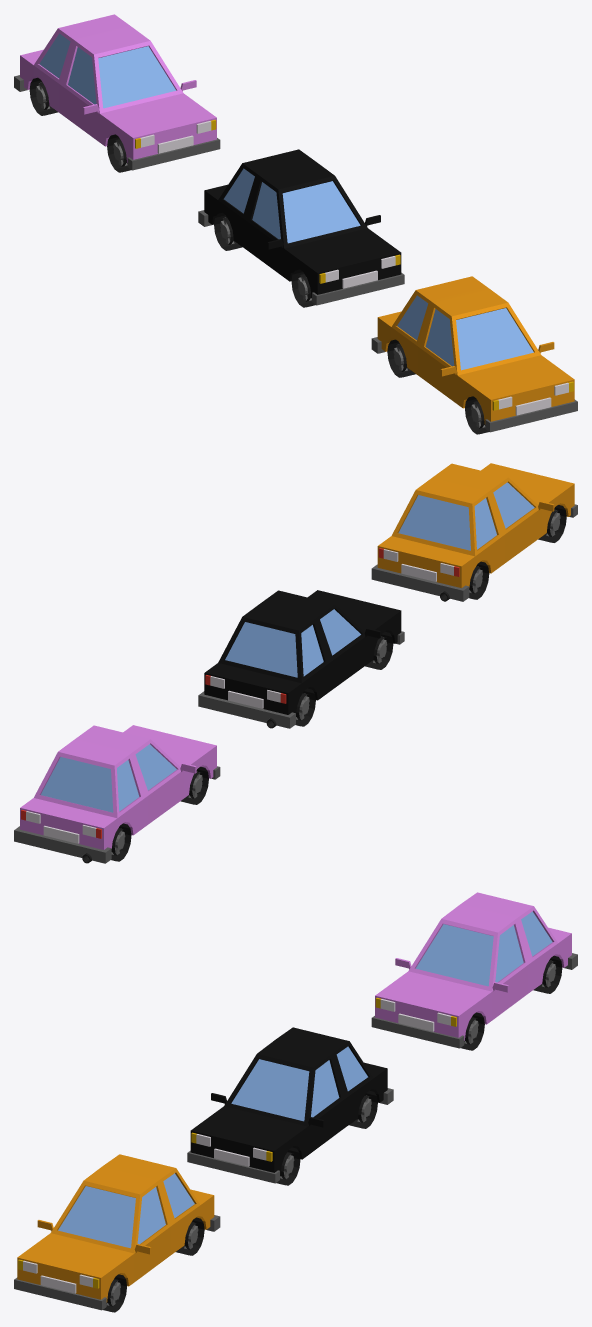
Rendered from car4.glb.
The picture shows the model from 3 angles, top to bottom: view 1: azimuth 30°, elevation 25°; view 2: azimuth 150°, elevation 25°; view 3: azimuth 330°, elevation 25°; orthographic projection.
Parts seen in each view (by area): view 1: zar.001, zar, zar.002, Cylinder.002, Cylinder.008, Cylinder.004, Cylinder.001, Cylinder.003, Cylinder.007; view 2: zar, zar.001, zar.002, Cylinder.003, Cylinder.001, Cylinder.007, Cylinder.008, Cylinder.002, Cylinder.004; view 3: zar.001, zar, zar.002, Cylinder.002, Cylinder.004, Cylinder.008, Cylinder.001, Cylinder.003, Cylinder.007.
Part boxes in pixels (x1,y1,x2,y2): zar.001: (198,149,404,305); zar: (371,276,577,432); zar.002: (14,14,220,170); Cylinder.002: (387,339,415,377); Cylinder.008: (29,77,57,115); Cylinder.004: (214,212,242,250); Cylinder.001: (465,396,488,434); Cylinder.003: (291,269,315,307); Cylinder.007: (107,134,130,172); zar: (371,463,577,601); zar.001: (198,590,404,728); zar.002: (14,725,220,863); Cylinder.003: (365,631,393,669); Cylinder.001: (538,505,566,542); Cylinder.007: (180,766,208,804); Cylinder.008: (111,823,131,861); Cylinder.002: (469,561,489,599); Cylinder.004: (295,688,315,726); zar.001: (187,1027,393,1183); zar: (14,1154,220,1310); zar.002: (371,892,577,1048); Cylinder.002: (176,1217,204,1255); Cylinder.004: (349,1090,377,1128); Cylinder.008: (533,955,562,993); Cylinder.001: (103,1274,126,1312); Cylinder.003: (276,1147,300,1185); Cylinder.007: (461,1012,484,1050).
Size of the model in its own units: 0.5389 by 0.4011 by 3.94.
